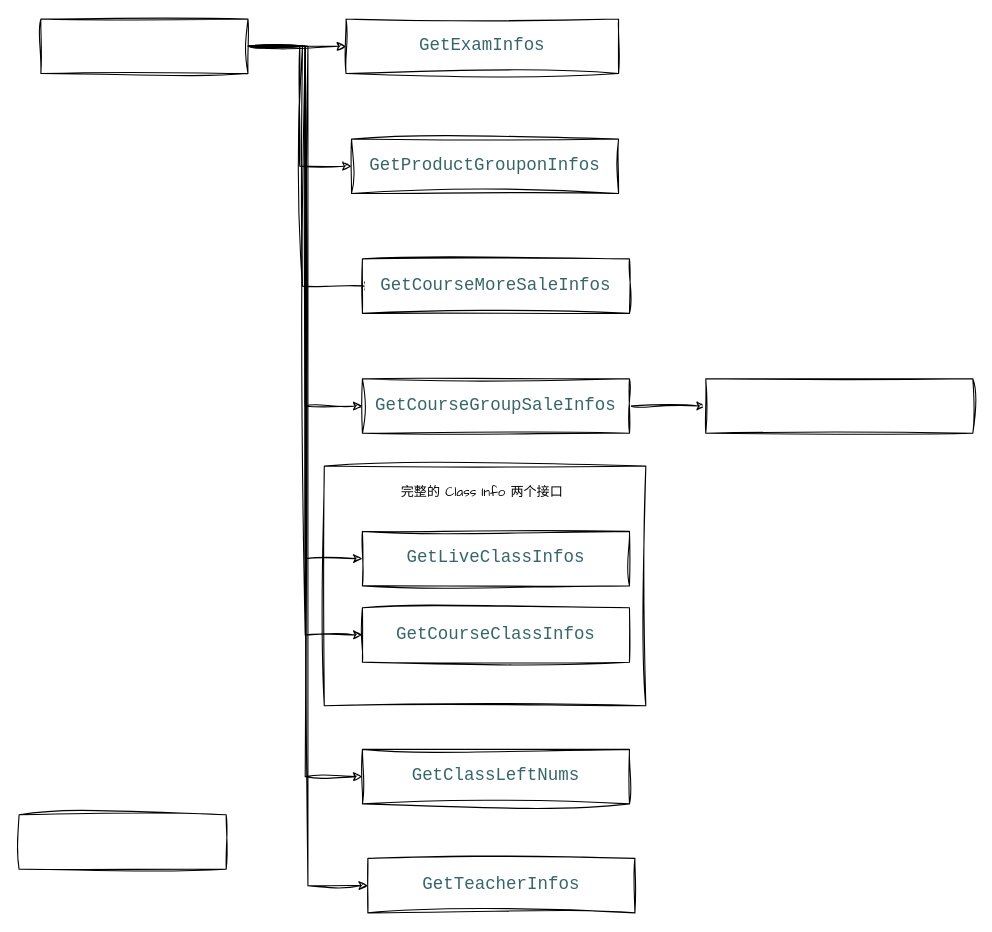
This 992x932 diagram has some shape labels left out. Here are the shapes that lost their labels. From the top down, the box of each, then its label:
(40, 18, 248, 74): GetCourseInfos
(705, 378, 973, 433): GetMallPromotionPrice
(18, 814, 226, 869): GetCartInfos
